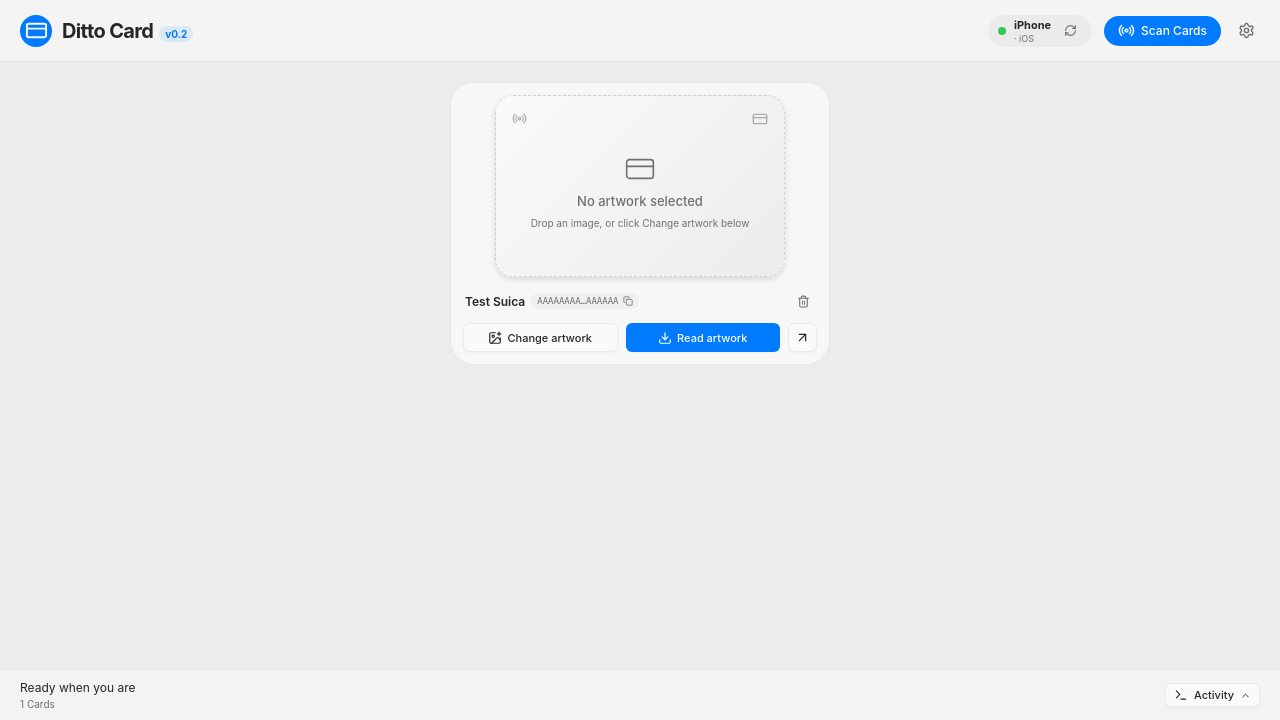
Scenario: hides a card locally and brings it back without deleting its backup
This screenshot has width=1280, height=720.
Click the button named "Hide from this list Test Suica" at (804, 301), box [792,290,815,312]
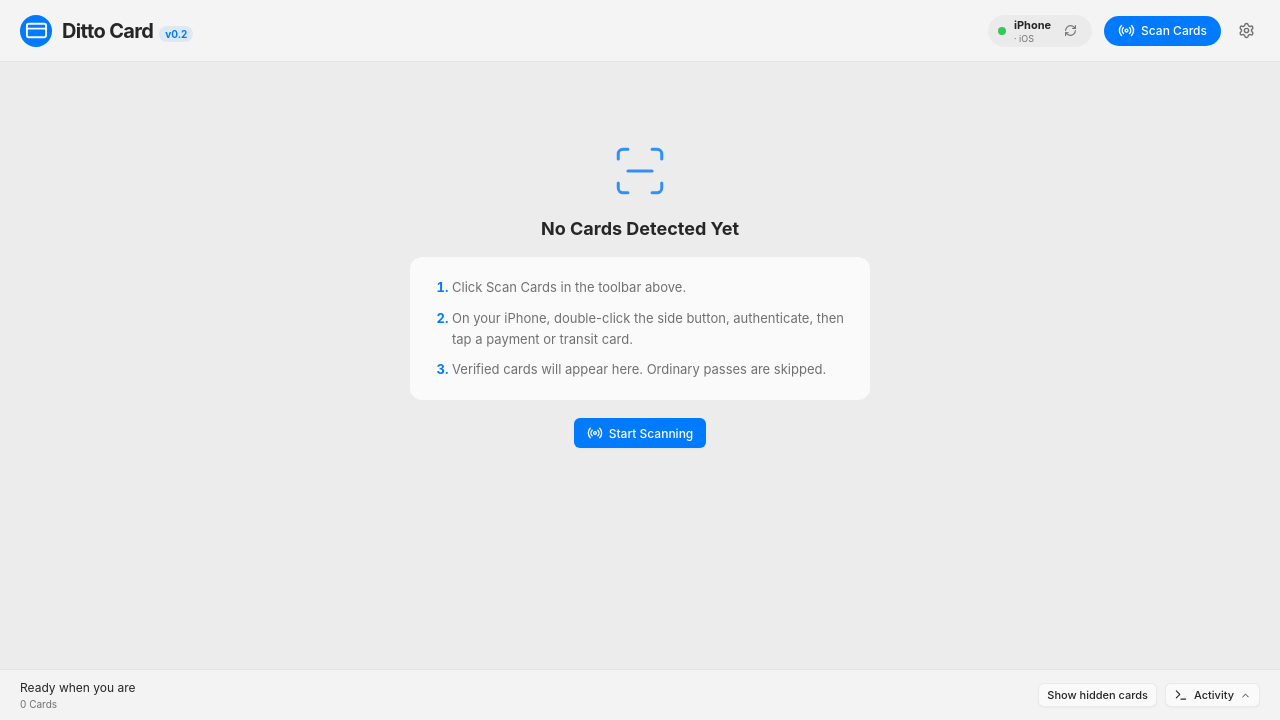
Expected: the text "Test Suica" is gone
Click the button "Show hidden cards" at (1098, 695), box [1038,683,1157,707]
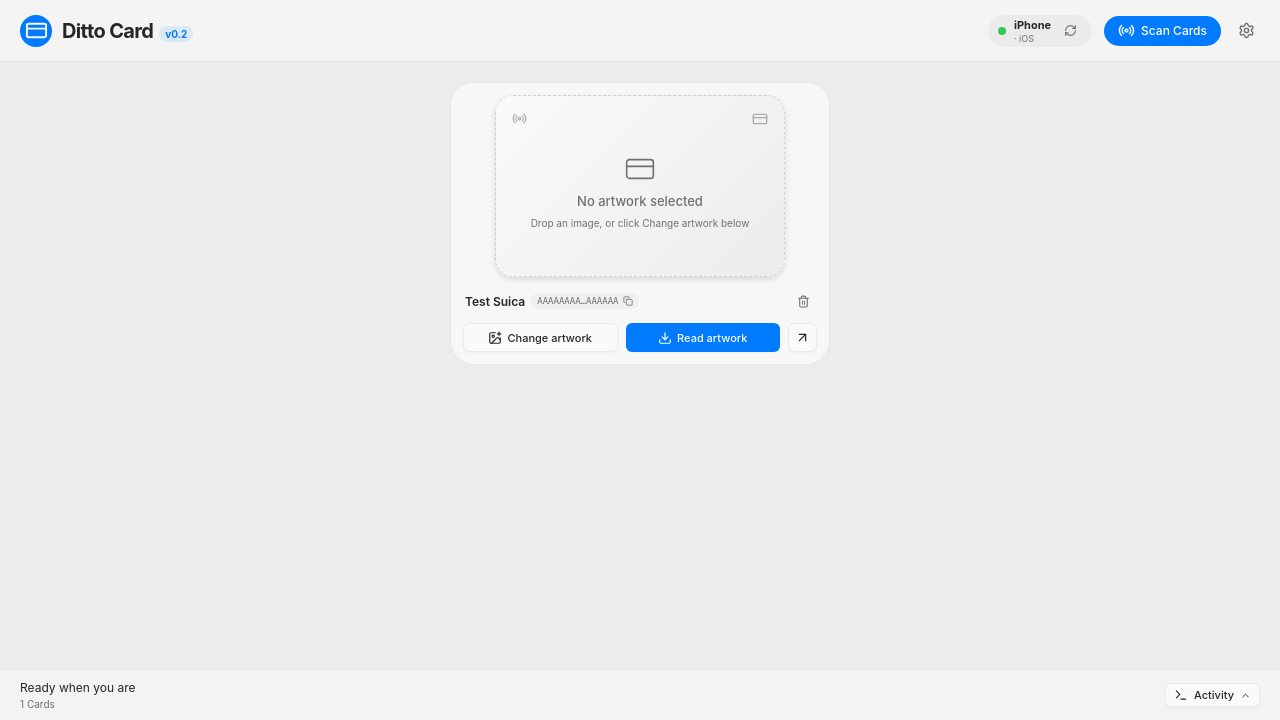
Expected: the text "Test Suica" is shown, [465,294,525,308]
